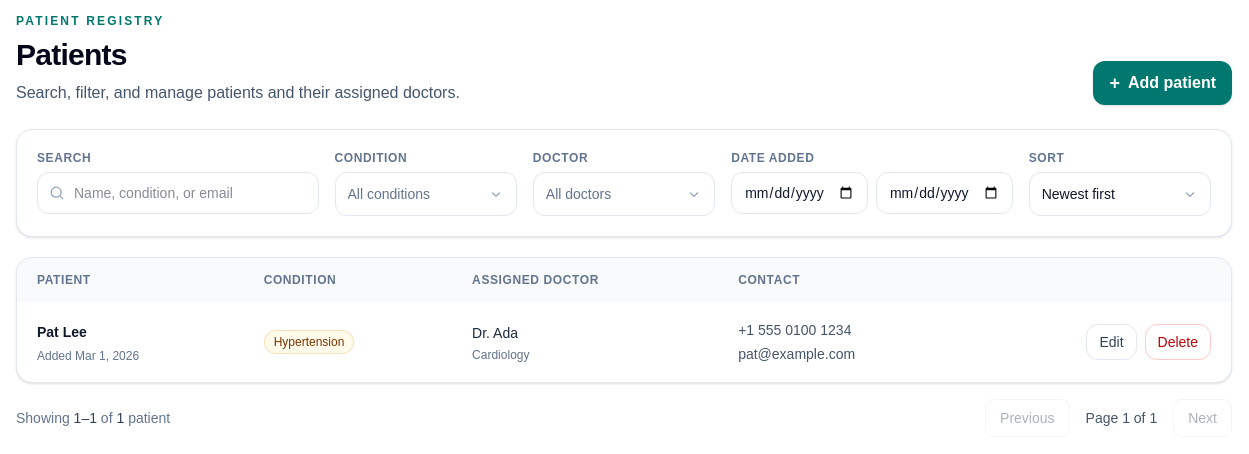
it: PatientsManager list › searches inside the doctor filter
Click the button with aria-label "Filter doctor:" at {"x": 624, "y": 194}, box x1=533 y1=172 x2=715 y2=216
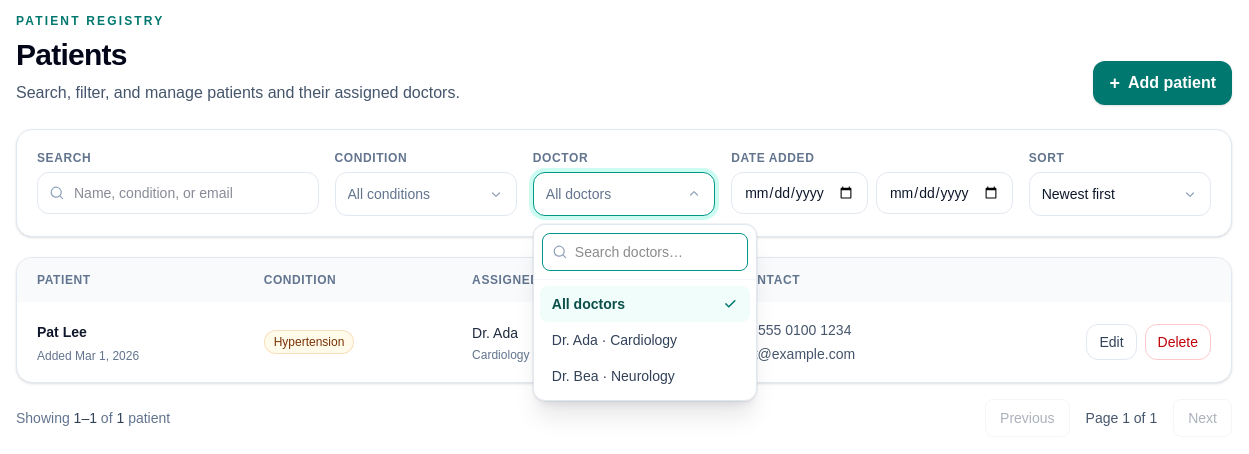
Type "neuro" into the dropdown named "Filter doctor search" at {"x": 645, "y": 252}, box x1=542 y1=233 x2=748 y2=271
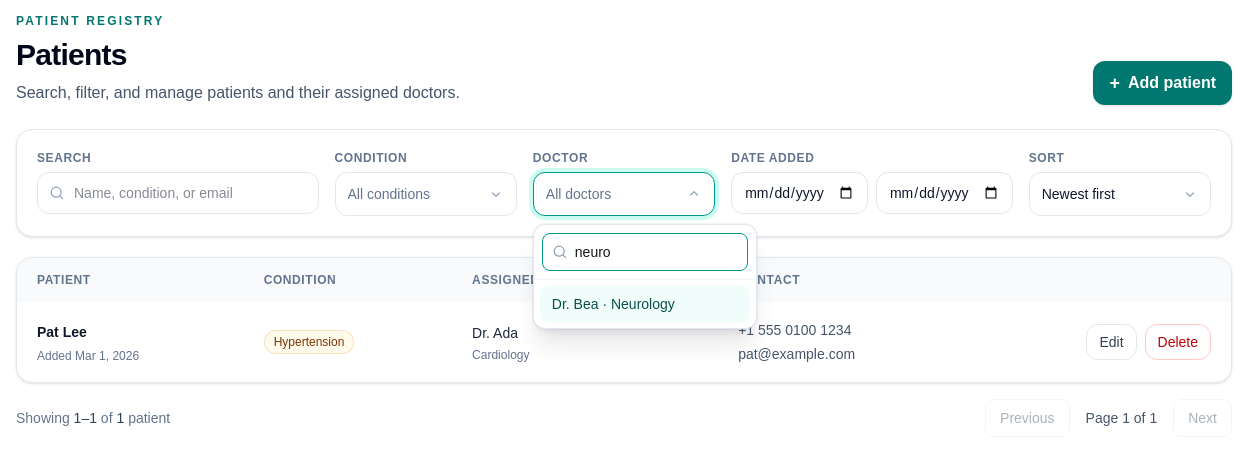
Result: the options read "Dr. Bea · Neurology", in this order at x1=540 y1=286 x2=750 y2=322
